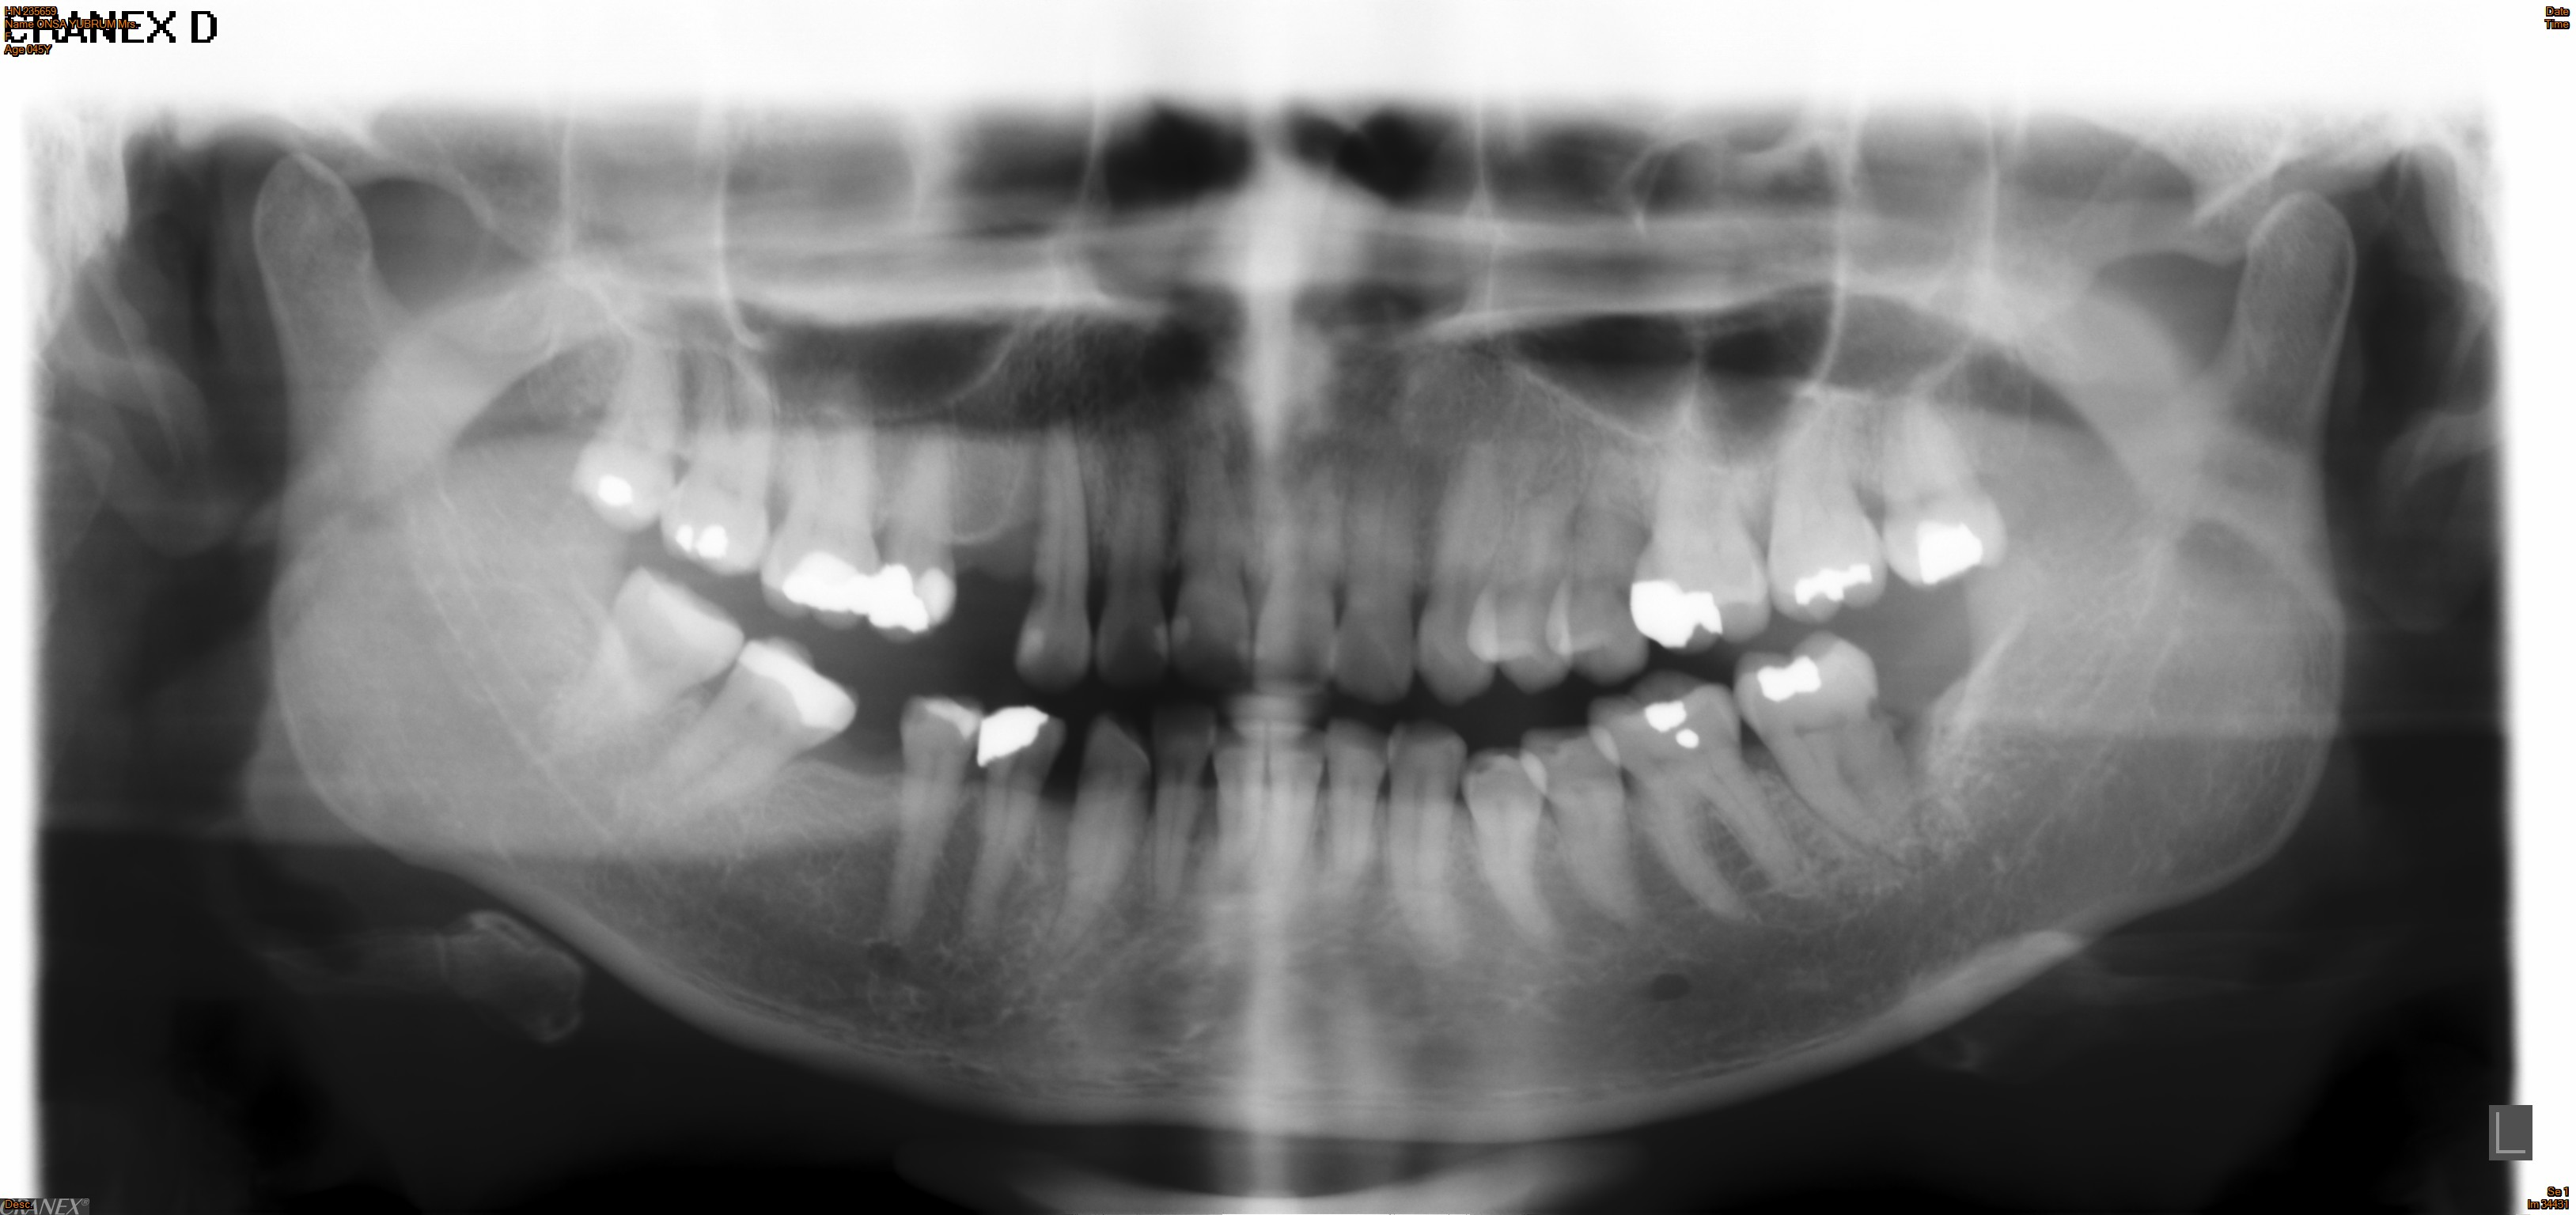periodontitis: (606, 634, 864, 842)
